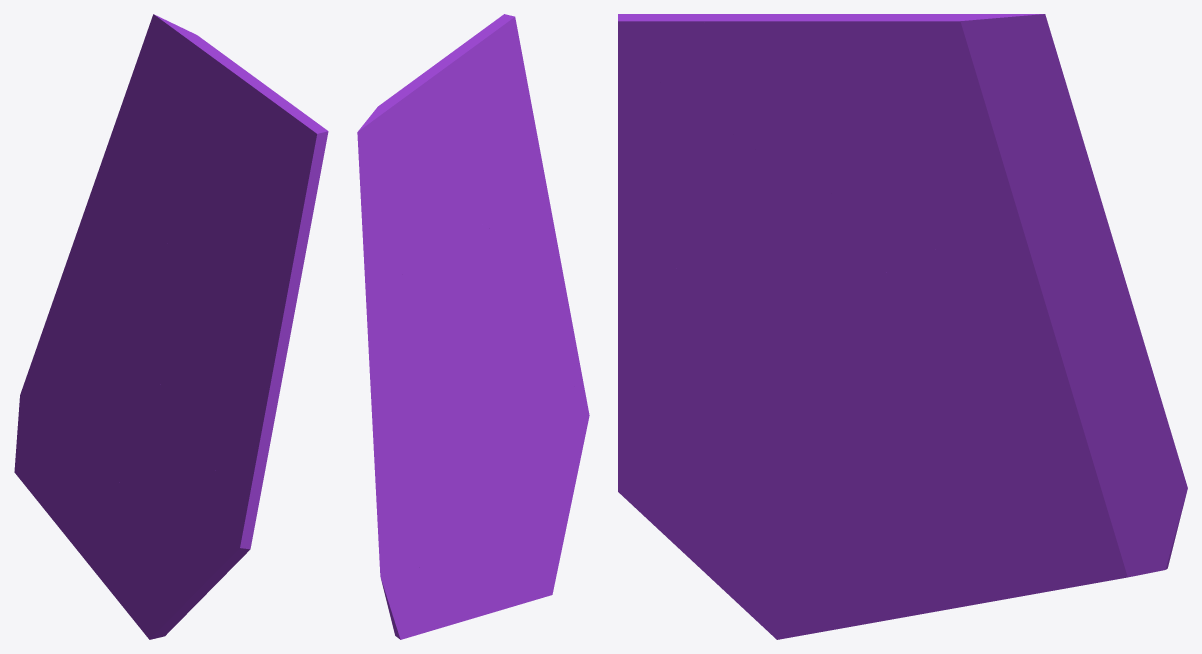
The model's file is Window_4_11_chunks.fbx.
3 views of the same model, side by side, from view 1: azimuth 30°, elevation 25°; view 2: azimuth 150°, elevation 25°; view 3: azimuth 270°, elevation 25° (orthographic). The views are drawn at different scales.
Visible parts, largest first — view 1: Window_4_11_8, Window_4_11_5, Window_4_11_4, Window_4_11_2, Window_4_11_1, Window_4_11_9, Window_4_11_17, Window_4_11_14, Window_4_11_6, Window_4_11_0, Window_4_11_10, Window_4_11_3 (+6 smaller); view 2: Window_4_11_8, Window_4_11_5, Window_4_11_4, Window_4_11_2, Window_4_11_1, Window_4_11_17, Window_4_11_9, Window_4_11_6, Window_4_11_0, Window_4_11_14, Window_4_11_10, Window_4_11_3 (+7 smaller); view 3: Window_4_11_8, Window_4_11_5, Window_4_11_0, Window_4_11_9, Window_4_11_4, Window_4_11_1, Window_4_11_2, Window_4_11_7, Window_4_11_17, Window_4_11_10, Window_4_11_13, Window_4_11_19 (+8 smaller).
Part boxes in pixels (left/top/right/bottom): Window_4_11_8: left=155, top=244, right=284, bottom=518; Window_4_11_5: left=122, top=420, right=255, bottom=639; Window_4_11_4: left=14, top=424, right=124, bottom=605; Window_4_11_2: left=53, top=238, right=165, bottom=389; Window_4_11_1: left=140, top=14, right=192, bottom=257; Window_4_11_9: left=219, top=160, right=322, bottom=367; Window_4_11_17: left=187, top=38, right=250, bottom=193; Window_4_11_14: left=246, top=102, right=328, bottom=222; Window_4_11_6: left=77, top=377, right=182, bottom=488; Window_4_11_0: left=14, top=357, right=124, bottom=467; Window_4_11_10: left=100, top=52, right=140, bottom=225; Window_4_11_3: left=33, top=222, right=146, bottom=363; Window_4_11_8: left=450, top=228, right=583, bottom=395; Window_4_11_5: left=486, top=385, right=589, bottom=603; Window_4_11_4: left=398, top=516, right=521, bottom=639; Window_4_11_2: left=394, top=295, right=473, bottom=512; Window_4_11_1: left=357, top=108, right=443, bottom=304; Window_4_11_17: left=384, top=68, right=475, bottom=206; Window_4_11_9: left=481, top=76, right=554, bottom=230; Window_4_11_6: left=431, top=392, right=506, bottom=525; Window_4_11_0: left=378, top=443, right=455, bottom=637; Window_4_11_14: left=471, top=14, right=525, bottom=146; Window_4_11_10: left=359, top=176, right=412, bottom=330; Window_4_11_3: left=375, top=301, right=422, bottom=531; Window_4_11_8: left=618, top=218, right=913, bottom=457; Window_4_11_5: left=618, top=408, right=906, bottom=639; Window_4_11_0: left=884, top=354, right=1187, bottom=571; Window_4_11_9: left=618, top=53, right=826, bottom=288; Window_4_11_4: left=865, top=483, right=1168, bottom=623; Window_4_11_1: left=923, top=14, right=1058, bottom=250; Window_4_11_2: left=902, top=244, right=1123, bottom=411; Window_4_11_7: left=801, top=386, right=1019, bottom=516; Window_4_11_17: left=779, top=14, right=956, bottom=154; Window_4_11_10: left=990, top=60, right=1101, bottom=248; Window_4_11_13: left=1038, top=203, right=1158, bottom=389; Window_4_11_19: left=826, top=152, right=941, bottom=295.
Bounding box in the file's own units: 275 × 1214 × 911.
